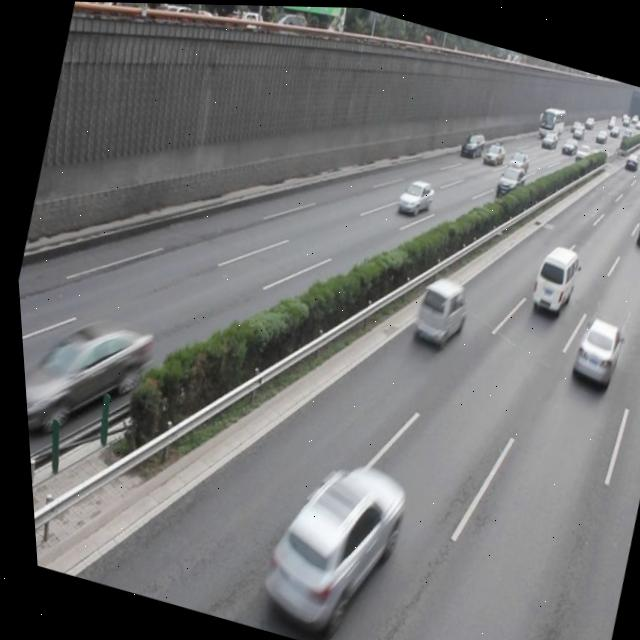car: (238, 437, 410, 640), (15, 295, 158, 452), (404, 268, 470, 344), (558, 310, 621, 388), (391, 172, 433, 217)
truck: (521, 239, 578, 315)
